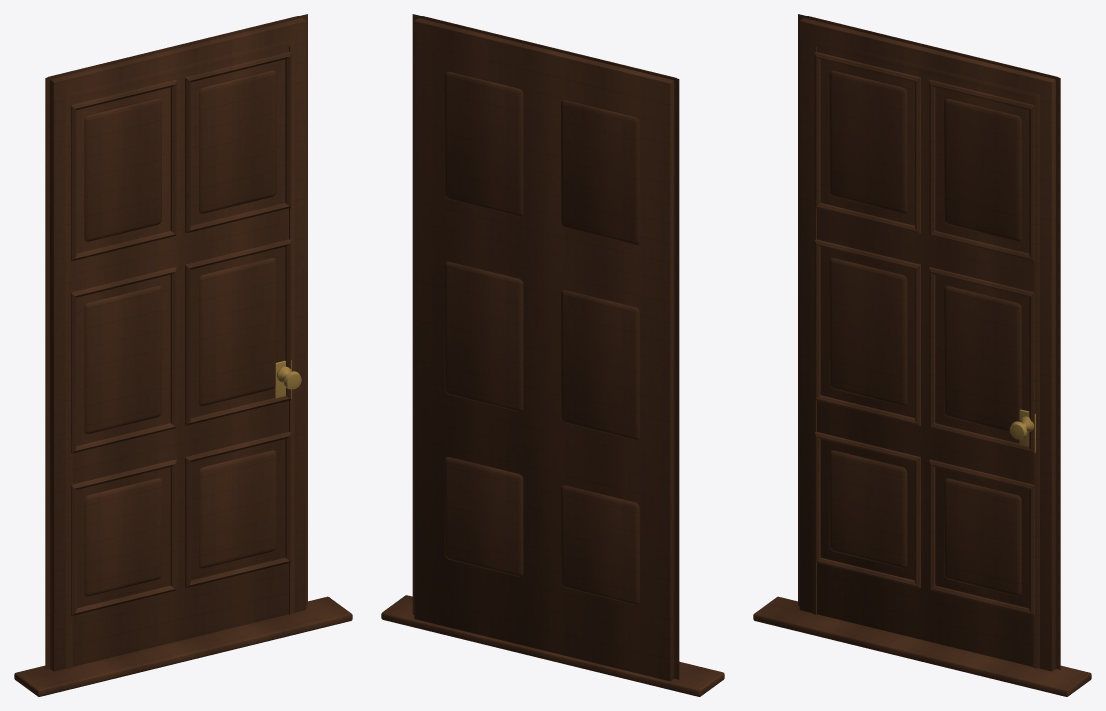
Rendered from porta-biblioteca.glb.
3 views of the same model, side by side, from view 1: azimuth 30°, elevation 25°; view 2: azimuth 150°, elevation 25°; view 3: azimuth 330°, elevation 25° (orthographic).
Parts seen in each view (by area): view 1: folha, porta-biblioteca-batente, porta-biblioteca-soleira; view 2: folha, porta-biblioteca-batente, porta-biblioteca-soleira; view 3: folha, porta-biblioteca-batente, porta-biblioteca-soleira.
Boxes of the visible parts, x1,y1,x2,y2 form: folha: (47, 16, 306, 671); porta-biblioteca-batente: (45, 14, 307, 669); porta-biblioteca-soleira: (14, 596, 352, 696); folha: (414, 16, 676, 681); porta-biblioteca-batente: (412, 14, 679, 679); porta-biblioteca-soleira: (381, 595, 724, 696); folha: (799, 16, 1058, 671); porta-biblioteca-batente: (798, 14, 1060, 669); porta-biblioteca-soleira: (753, 596, 1091, 696).
Size of the model in its own units: 1.32 by 2.4 by 0.18.
Materials: 2 (2 with a texture image).
